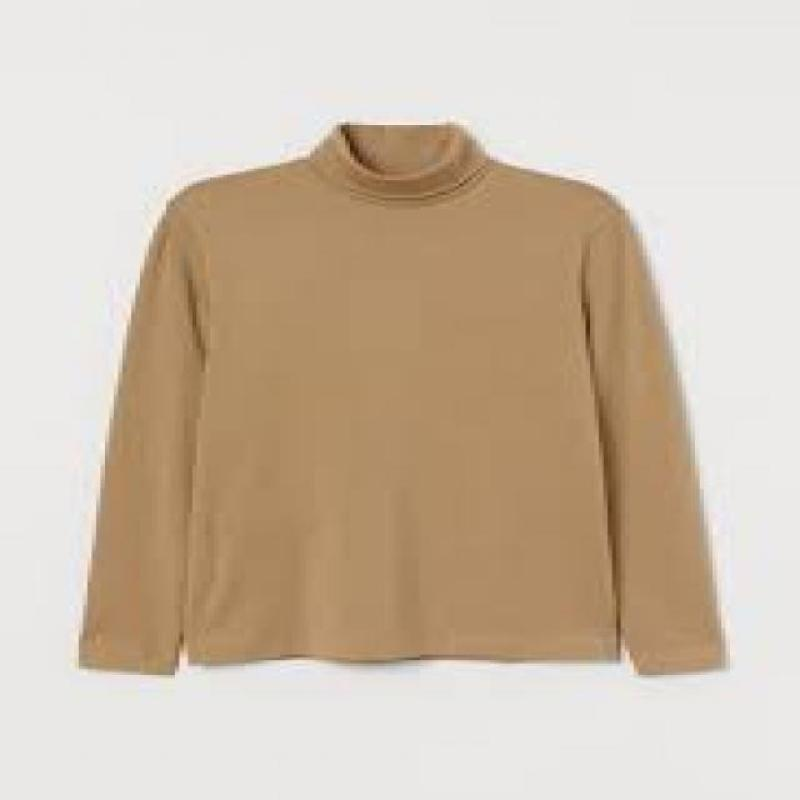sweater: (77, 121, 730, 679)
